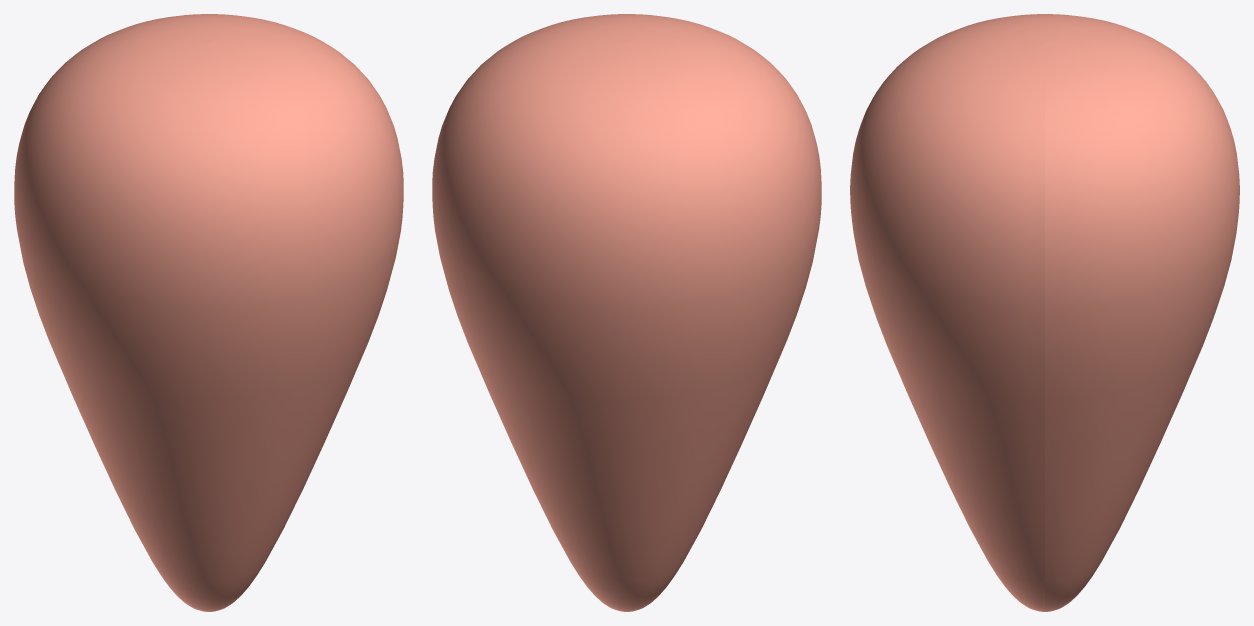
File: pin_test.gltf
3 renders of one model, left to right at view 1: azimuth 30°, elevation 25°; view 2: azimuth 150°, elevation 25°; view 3: azimuth 270°, elevation 25°, orthographic.
Parts seen in each view (by area): view 1: Brep; view 2: Brep; view 3: Brep.
Part boxes in pixels (x1,y1,x2,y2): Brep: [14, 14, 403, 611]; Brep: [432, 14, 821, 611]; Brep: [850, 14, 1239, 611].
Size of the model in its own units: 31.24 by 50 by 31.24.
